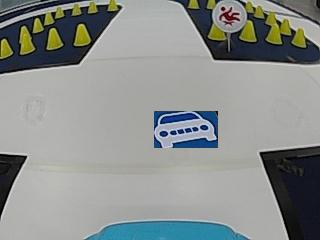cone: (73, 23, 90, 46), (239, 21, 257, 42), (19, 27, 33, 54), (266, 22, 282, 45), (46, 28, 62, 49), (291, 27, 306, 48), (207, 23, 225, 40), (0, 37, 12, 58), (280, 17, 290, 35), (32, 17, 43, 33), (87, 0, 98, 14), (254, 3, 263, 19), (71, 3, 82, 16), (54, 5, 64, 19), (44, 11, 54, 25), (107, 0, 118, 11), (245, 0, 253, 13), (188, 0, 199, 9)
tumble: (215, 2, 244, 28)
